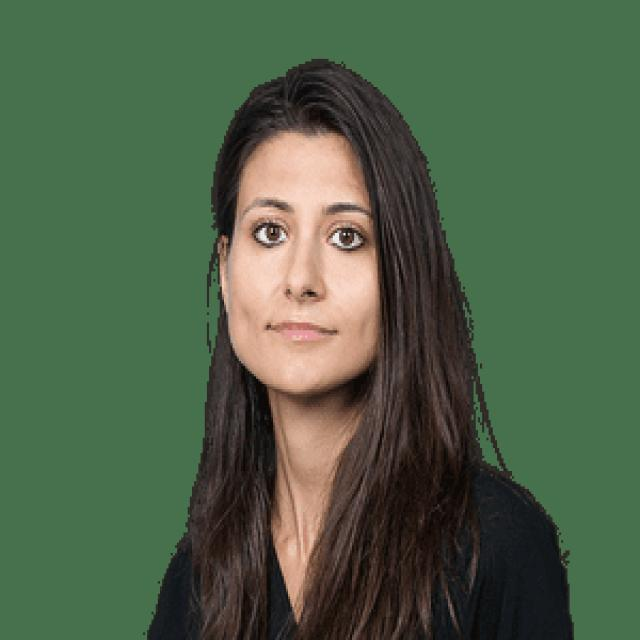mobile_phonerotation: (132, 57, 578, 638)
